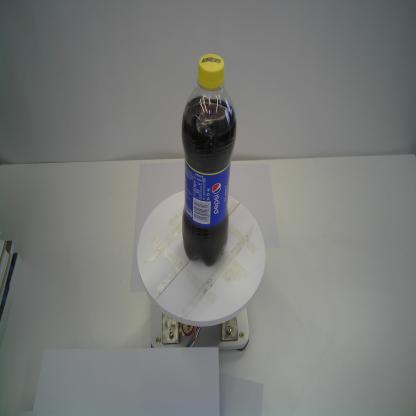Drink: (179, 50, 239, 268)
